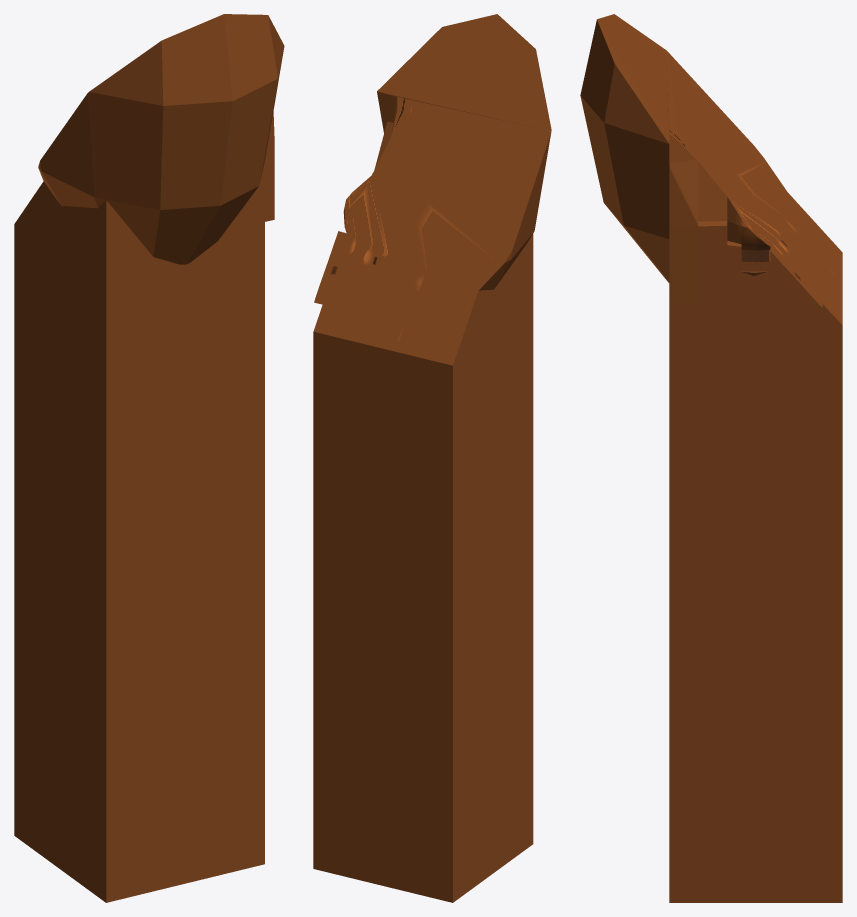
File: idol_exploded_1.fbx
3 renders of one model, left to right at view 1: azimuth 30°, elevation 25°; view 2: azimuth 150°, elevation 25°; view 3: azimuth 270°, elevation 25°, orthographic. The views are drawn at different scales.
Visible parts, largest first — view 1: Cube; view 2: Cube; view 3: Cube.
Boxes of the visible parts, bbox=[...] form: Cube: bbox=[14, 14, 284, 902]; Cube: bbox=[313, 14, 551, 902]; Cube: bbox=[580, 14, 842, 902].
Bounding box in the file's own units: 251 × 1080 × 303.
1 material, 1 textured.
